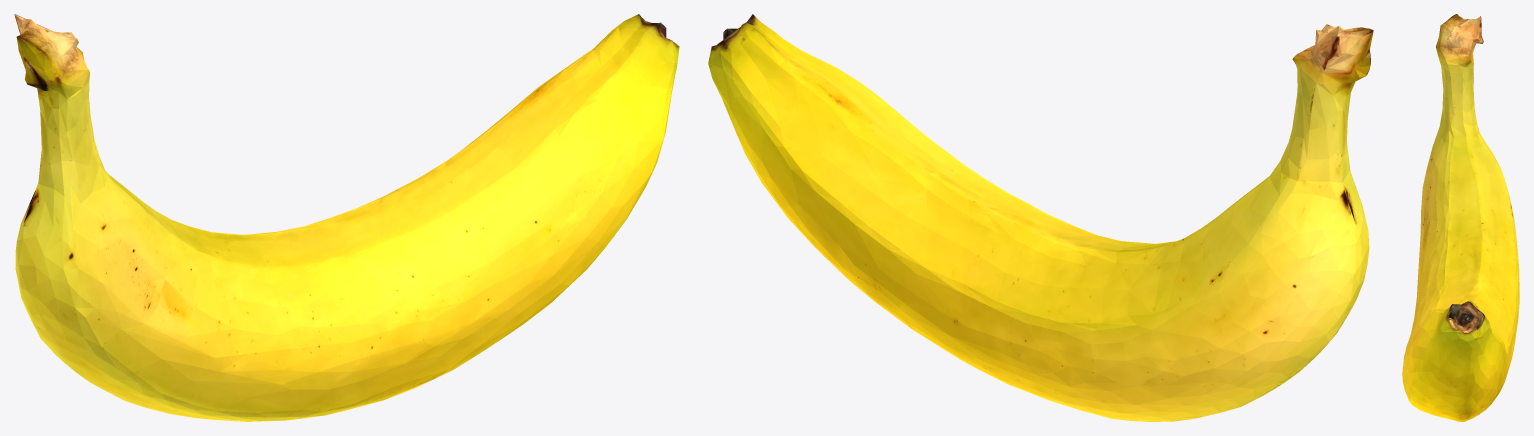
The model's file is banana-transformed.glb.
The picture shows the model from 3 angles, left to right: view 1: azimuth 30°, elevation 25°; view 2: azimuth 150°, elevation 25°; view 3: azimuth 270°, elevation 25°; orthographic projection. The views are drawn at different scales.
Visible parts, largest first — view 1: Banana; view 2: Banana; view 3: Banana.
Boxes of the visible parts, x1=… form: Banana: x1=14, y1=14, x2=679, y2=421; Banana: x1=708, y1=14, x2=1373, y2=421; Banana: x1=1402, y1=14, x2=1519, y2=421.
Bounding box in the file's own units: 6.79 × 4.44 × 1.62.
Materials: 1 (1 with a texture image).
